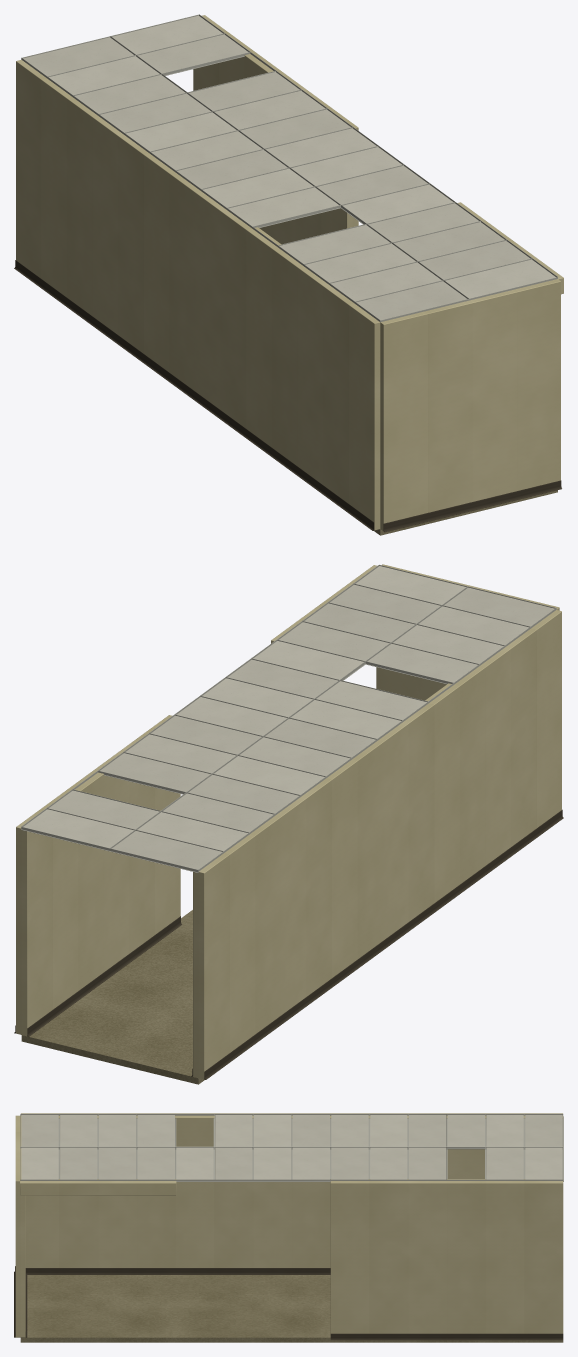
Rendered from short_west_return.gltf.
The picture shows the model from 3 angles, top to bottom: view 1: azimuth 30°, elevation 25°; view 2: azimuth 150°, elevation 25°; view 3: azimuth 270°, elevation 25°; orthographic projection. The views are drawn at different scales.
Visible parts, largest first — view 1: short_west_return; view 2: short_west_return; view 3: short_west_return.
Boxes of the visible parts, box(x1,y1,x2,y2) form: short_west_return: box(14, 14, 563, 535); short_west_return: box(14, 564, 563, 1084); short_west_return: box(14, 1113, 563, 1342).
Bounding box in the file's own units: 2.65 × 2.83 × 8.66.
Materials: 5 (5 with a texture image).
